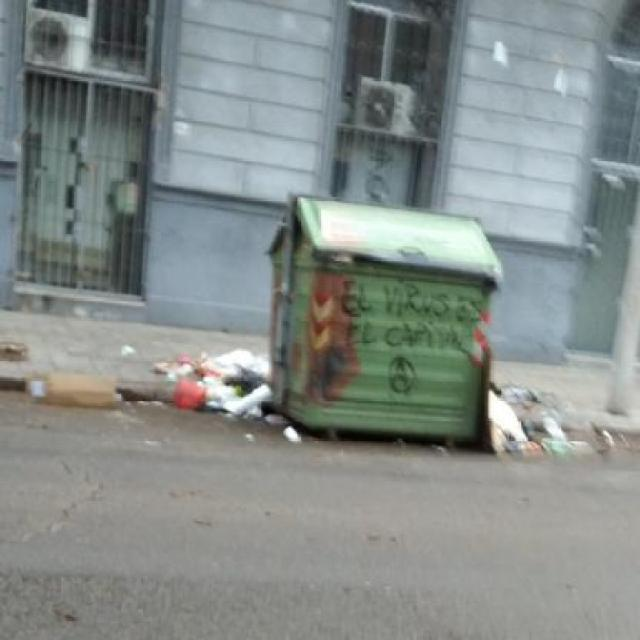garbage: (96, 310, 289, 446), (468, 332, 616, 456), (11, 350, 134, 429)
